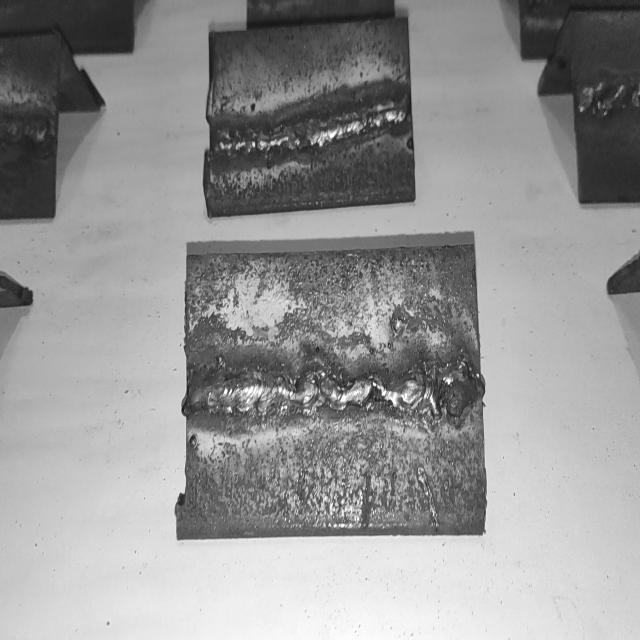Defect: (414, 348, 484, 428), (207, 121, 323, 159)
Welding Line: (193, 358, 481, 422), (210, 91, 410, 156), (570, 79, 640, 118), (0, 106, 56, 153)
Workpiece: (180, 237, 488, 539), (204, 14, 416, 222), (566, 5, 640, 208), (0, 31, 62, 222)
